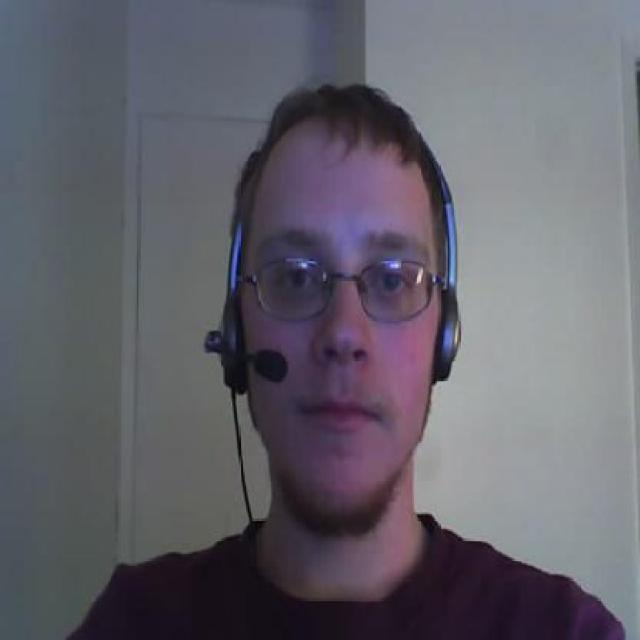earphone: (178, 84, 510, 384)
